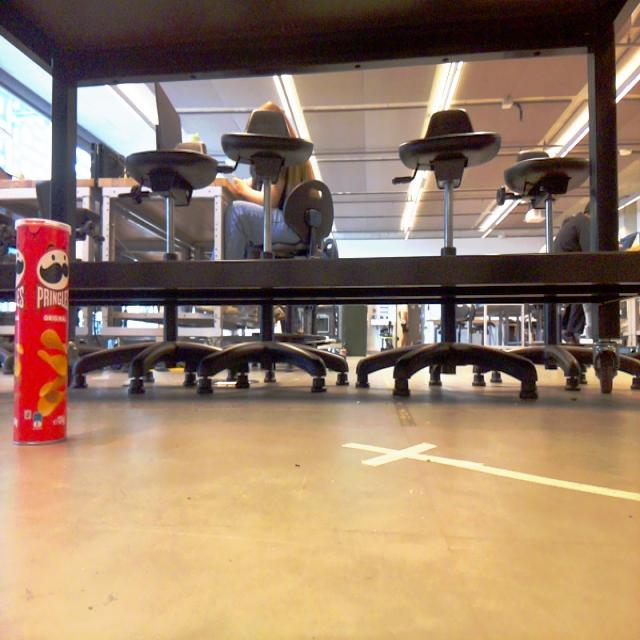redpringles: (3, 205, 84, 463)
